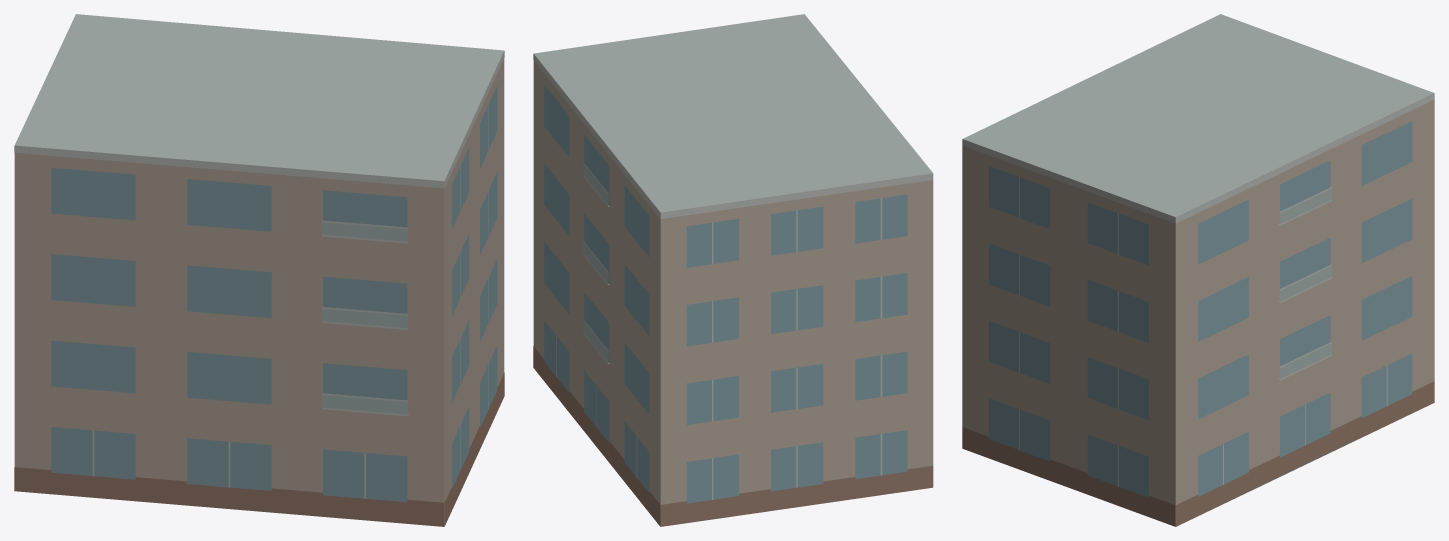
Rendered from survey-upis-32886994.glb.
3 renders of one model, left to right at view 1: azimuth 30°, elevation 25°; view 2: azimuth 150°, elevation 25°; view 3: azimuth 270°, elevation 25°, orthographic. The views are drawn at different scales.
Visible parts, largest first — view 1: survey-upis-32886994.tmp; view 2: survey-upis-32886994.tmp; view 3: survey-upis-32886994.tmp.
Part boxes in pixels (x1,y1,x2,y2): survey-upis-32886994.tmp: (14, 14, 504, 526); survey-upis-32886994.tmp: (533, 14, 933, 526); survey-upis-32886994.tmp: (962, 14, 1434, 526).
Size of the model in its own units: 16.48 by 11.7 by 16.17.
